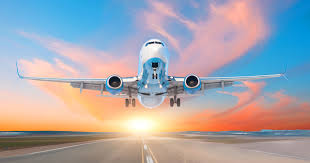maybay_dansu: (13, 36, 291, 112)
